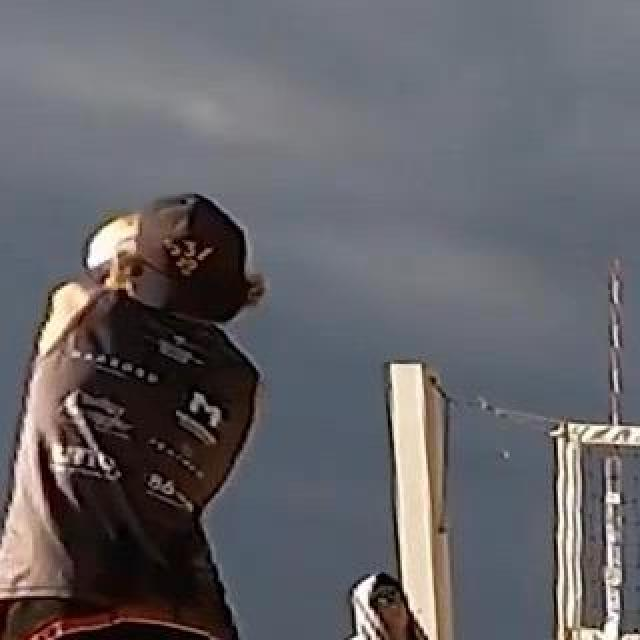volleyball: (82, 210, 180, 304)
